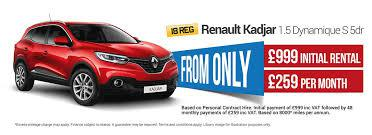car: (10, 17, 175, 104)
